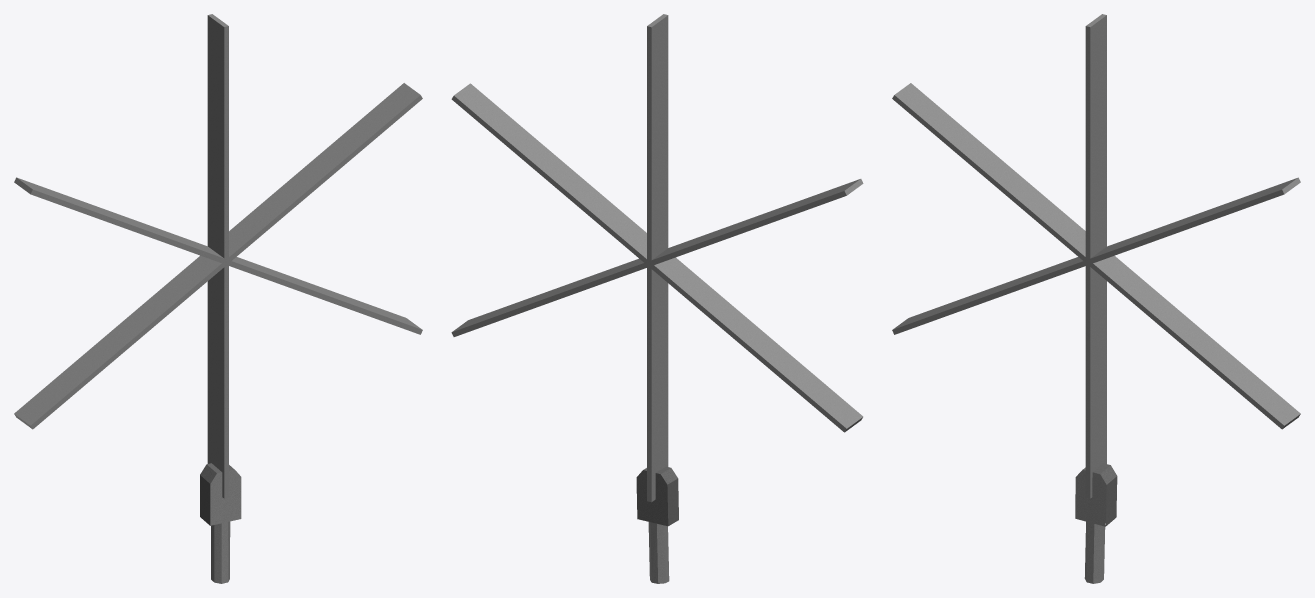
File: zcb004-geode.glb
The picture shows the model from 3 angles, left to right: view 1: azimuth 30°, elevation 25°; view 2: azimuth 150°, elevation 25°; view 3: azimuth 330°, elevation 25°; orthographic projection.
Parts seen in each view (by area): view 1: Node; view 2: Node; view 3: Node.
Boxes of the visible parts, box(x1,y1,x2,y2) form: Node: box(14, 14, 422, 583); Node: box(451, 14, 863, 583); Node: box(892, 14, 1300, 583).
Size of the model in its own units: 1.67 by 2.27 by 0.1222.
Materials: 2 (2 with a texture image).
